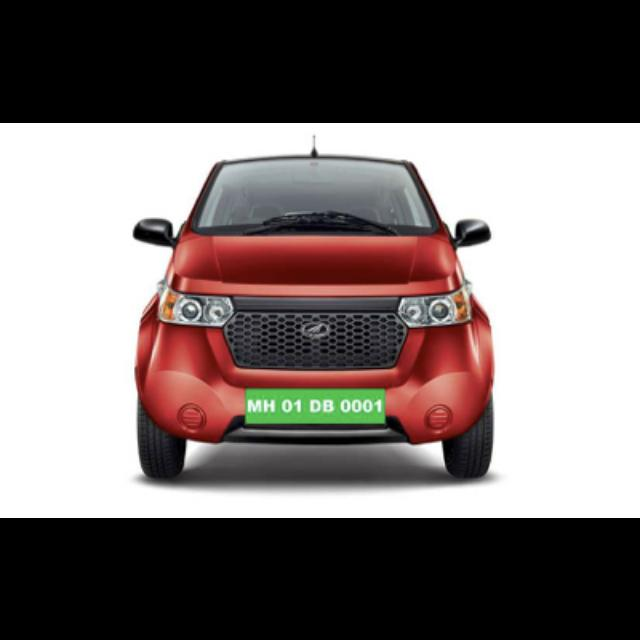carPlate: (247, 388, 385, 422)
